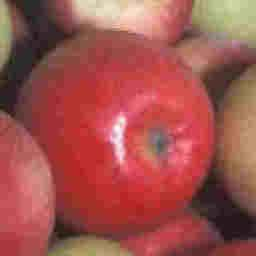apple: (16, 31, 217, 235)
